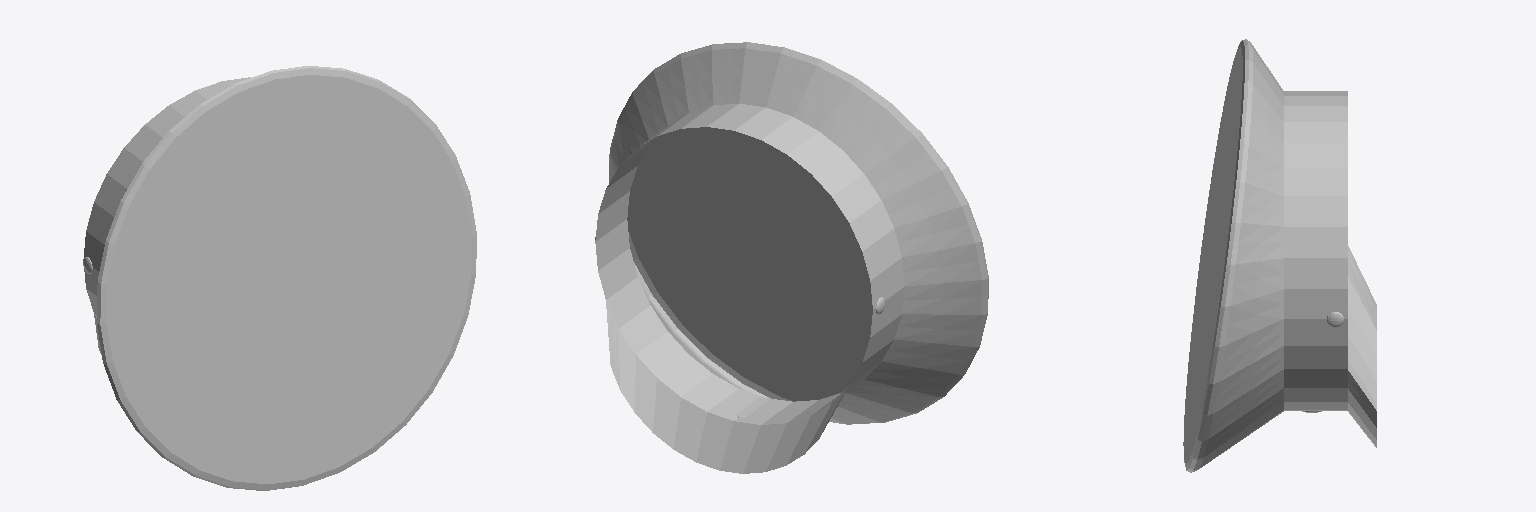
File: nav.obj
3 renders of one model, left to right at view 1: azimuth 30°, elevation 25°; view 2: azimuth 150°, elevation 25°; view 3: azimuth 270°, elevation 25°, orthographic.
Parts seen in each view (by area): view 1: Cylinder; view 2: Cylinder; view 3: Cylinder.
Part boxes in pixels (left/top/right/bottom): Cylinder: left=83, top=66, right=476, bottom=490; Cylinder: left=595, top=42, right=988, bottom=473; Cylinder: left=1183, top=39, right=1376, bottom=472.
Bounding box in the file's own units: 2.73 × 2.71 × 1.2.